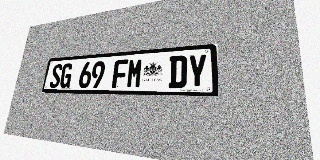6: (78, 62, 93, 88)
9: (90, 61, 106, 88)
D: (168, 55, 187, 88)
F: (112, 59, 128, 88)
G: (59, 63, 73, 88)
M: (126, 58, 143, 88)
S: (49, 64, 63, 88)
Y: (187, 54, 207, 88)
